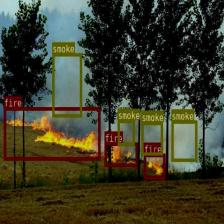fire: (3, 106, 100, 160), (104, 142, 137, 166), (143, 153, 165, 179)
smoke: (52, 53, 81, 116), (171, 120, 197, 161), (141, 121, 162, 154), (118, 120, 134, 145)
